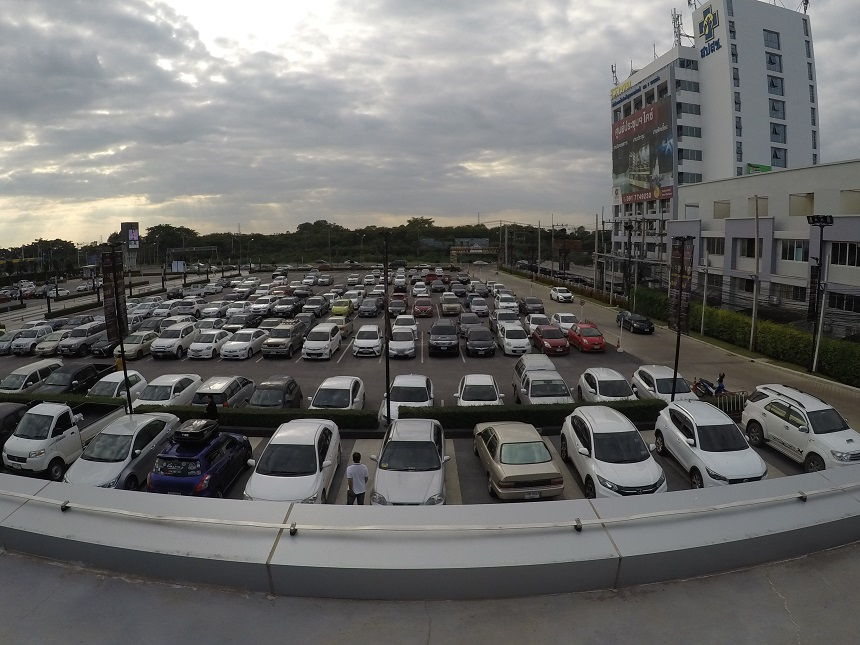busy: (478, 439, 564, 489), (165, 440, 249, 486), (253, 446, 332, 493), (789, 408, 860, 456), (582, 445, 661, 486), (372, 463, 444, 504), (686, 439, 763, 476), (15, 422, 74, 462), (95, 432, 151, 472), (375, 378, 430, 406), (311, 380, 364, 406), (521, 376, 570, 401), (143, 375, 188, 401), (197, 374, 239, 401), (634, 371, 683, 394), (254, 378, 295, 405), (580, 375, 626, 399), (451, 376, 495, 401), (46, 366, 88, 389), (149, 332, 184, 359), (97, 374, 136, 396), (461, 336, 497, 359), (305, 336, 338, 361), (426, 332, 459, 354), (353, 337, 388, 357), (261, 334, 290, 357), (186, 336, 214, 359), (222, 338, 253, 358), (539, 333, 570, 353), (6, 371, 37, 389), (58, 332, 84, 353), (117, 337, 143, 357), (578, 333, 606, 351), (505, 341, 532, 355), (93, 336, 111, 356), (393, 339, 413, 357), (14, 339, 34, 355), (41, 333, 57, 351), (1, 406, 9, 428), (1, 338, 11, 351)
